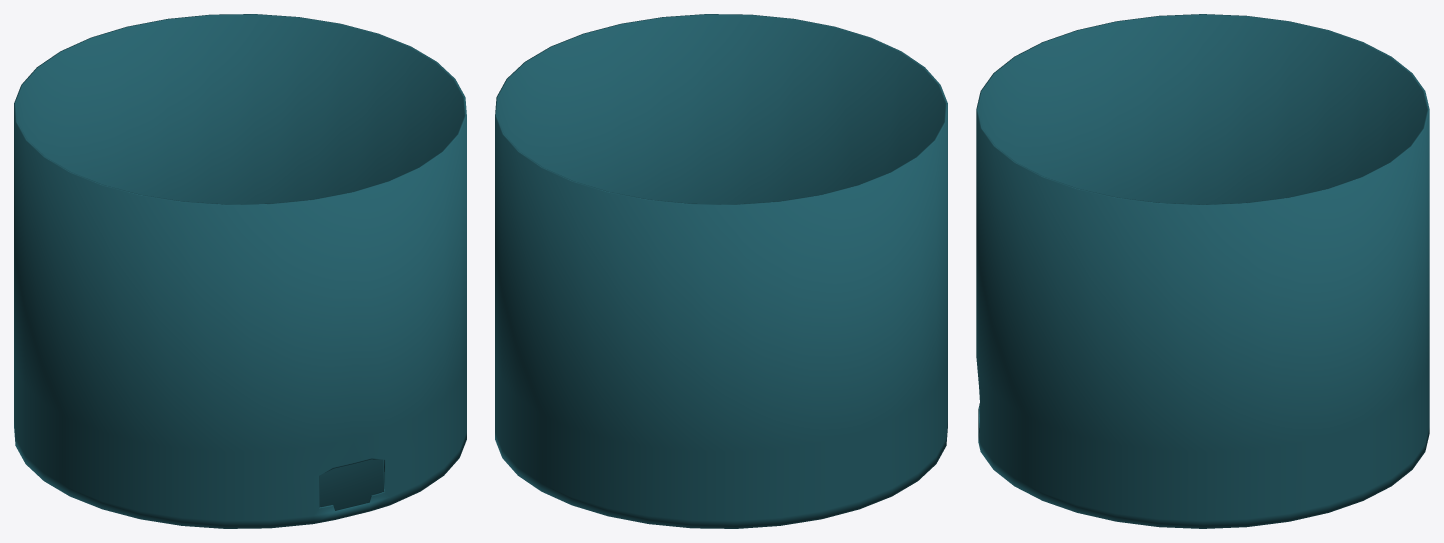
File: Siilo.glb
The picture shows the model from 3 angles, left to right: view 1: azimuth 30°, elevation 25°; view 2: azimuth 150°, elevation 25°; view 3: azimuth 270°, elevation 25°; orthographic projection.
Parts seen in each view (by area): view 1: Cylinder; view 2: Cylinder; view 3: Cylinder.
Boxes of the visible parts, x1,y1,x2,y2 form: Cylinder: [14, 14, 466, 528]; Cylinder: [495, 14, 947, 528]; Cylinder: [976, 14, 1429, 528].
Bounding box in the file's own units: 36.88 × 29.02 × 36.88.
